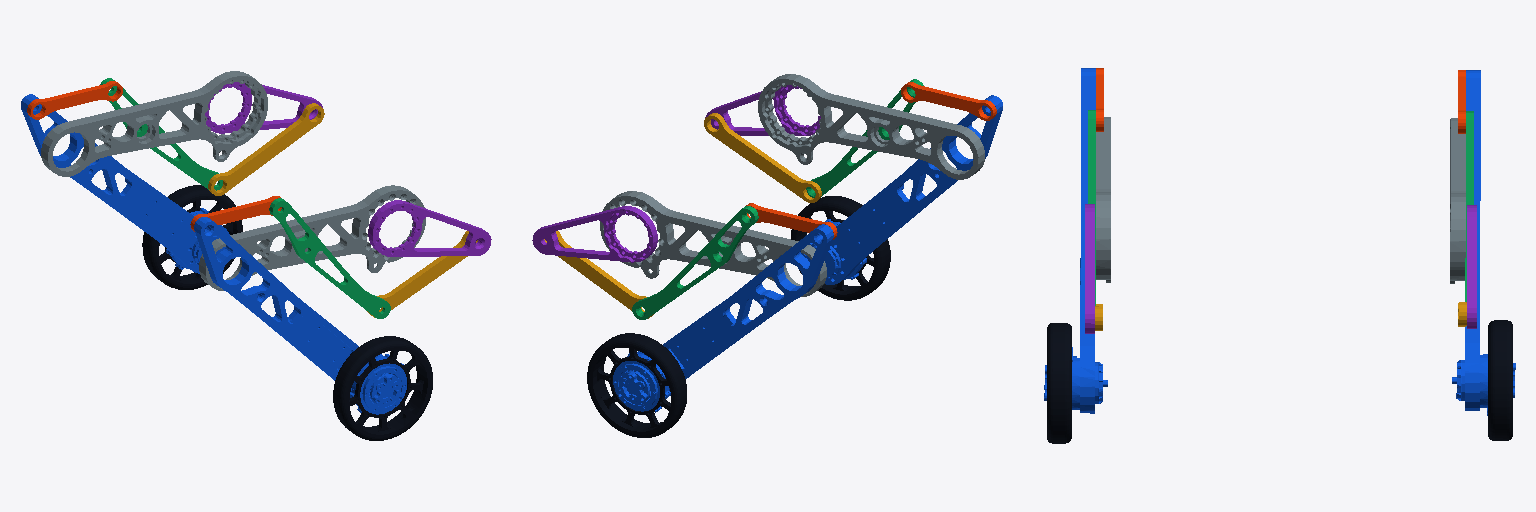
robot.urdf — own_v40_closedchain_research:
<?xml version='1.0' encoding='utf-8'?>
<robot name="own_v40_closedchain_research">
  <link name="base_link">
    <inertial>
      <origin xyz="-0.0050000000000000001 0.00029999999999999997 -0.052999999999999999" rpy="0 0 0" />
      <mass value="10.800000000000001" />
      <inertia ixx="0.17799999999999999" ixy="-0.00026400000000001157" ixz="-0.0041229999999999999" iyy="0.126" iyz="-0.00048999999999999912" izz="0.255" />
    </inertial>
    <visual>
      <origin xyz="0 0 0" rpy="0 0 1.5707963267948963" />
      <geometry>
        <mesh filename="meshes/base.stl" />
      </geometry>
      <material name="base">
        <color rgba="0.59999999999999998 0.65000000000000002 0.73999999999999999 1" />
      </material>
    </visual>
    <collision name="base_link_000">
      <origin xyz="0 0 0" rpy="0 0 1.5707963267948963" />
      <geometry>
        <mesh filename="collisions/base_link_part_000.obj" />
      </geometry>
    </collision>
    <collision name="base_link_001">
      <origin xyz="0 0 0" rpy="0 0 1.5707963267948963" />
      <geometry>
        <mesh filename="collisions/base_link_part_001.obj" />
      </geometry>
    </collision>
    <collision name="base_link_002">
      <origin xyz="0 0 0" rpy="0 0 1.5707963267948963" />
      <geometry>
        <mesh filename="collisions/base_link_part_002.obj" />
      </geometry>
    </collision>
    <collision name="base_link_003">
      <origin xyz="0 0 0" rpy="0 0 1.5707963267948963" />
      <geometry>
        <mesh filename="collisions/base_link_part_003.obj" />
      </geometry>
    </collision>
    <collision name="base_link_004">
      <origin xyz="0 0 0" rpy="0 0 1.5707963267948963" />
      <geometry>
        <mesh filename="collisions/base_link_part_004.obj" />
      </geometry>
    </collision>
    <collision name="base_link_005">
      <origin xyz="0 0 0" rpy="0 0 1.5707963267948963" />
      <geometry>
        <mesh filename="collisions/base_link_part_005.obj" />
      </geometry>
    </collision>
    <collision name="base_link_006">
      <origin xyz="0 0 0" rpy="0 0 1.5707963267948963" />
      <geometry>
        <mesh filename="collisions/base_link_part_006.obj" />
      </geometry>
    </collision>
    <collision name="base_link_007">
      <origin xyz="0 0 0" rpy="0 0 1.5707963267948963" />
      <geometry>
        <mesh filename="collisions/base_link_part_007.obj" />
      </geometry>
    </collision>
    <collision name="base_link_008">
      <origin xyz="0 0 0" rpy="0 0 1.5707963267948963" />
      <geometry>
        <mesh filename="collisions/base_link_part_008.obj" />
      </geometry>
    </collision>
    <collision name="base_link_009">
      <origin xyz="0 0 0" rpy="0 0 1.5707963267948963" />
      <geometry>
        <mesh filename="collisions/base_link_part_009.obj" />
      </geometry>
    </collision>
    <collision name="base_link_010">
      <origin xyz="0 0 0" rpy="0 0 1.5707963267948963" />
      <geometry>
        <mesh filename="collisions/base_link_part_010.obj" />
      </geometry>
    </collision>
    <collision name="base_link_011">
      <origin xyz="0 0 0" rpy="0 0 1.5707963267948963" />
      <geometry>
        <mesh filename="collisions/base_link_part_011.obj" />
      </geometry>
    </collision>
    <collision name="base_link_012">
      <origin xyz="0 0 0" rpy="0 0 1.5707963267948963" />
      <geometry>
        <mesh filename="collisions/base_link_part_012.obj" />
      </geometry>
    </collision>
    <collision name="base_link_013">
      <origin xyz="0 0 0" rpy="0 0 1.5707963267948963" />
      <geometry>
        <mesh filename="collisions/base_link_part_013.obj" />
      </geometry>
    </collision>
  </link>
  <link name="L_crank">
    <inertial>
      <origin xyz="-0.049812433890276814 -0.01514014536115295 0.0058039480295004157" rpy="0 0 0" />
      <mass value="0.045842196247616533" />
      <inertia ixx="2.3235309419594341e-05" ixy="-2.4664450605999792e-05" ixz="9.9313306483562188e-07" iyy="9.6959712559760428e-05" iyz="3.0141870298617644e-07" izz="0.00011944883815837006" />
    </inertial>
    <visual>
      <origin xyz="5.3055290129457803e-19 2.5298050691328436e-18 -0" rpy="0 0 0" />
      <geometry>
        <mesh filename="meshes/L_C0.stl" />
      </geometry>
      <material name="L_C0">
        <color rgba="0.56999999999999995 0.23000000000000001 0.78000000000000003 1" />
      </material>
    </visual>
    <collision name="L_crank_000">
      <origin xyz="5.3055290129457803e-19 2.5298050691328436e-18 -0" rpy="0 0 0" />
      <geometry>
        <mesh filename="collisions/L_C0.obj" />
      </geometry>
    </collision>
  </link>
  <link name="L_lower_coupler">
    <inertial>
      <origin xyz="0.059626241247400354 -0.03179900964804825 -0.00279999984195456" rpy="0 0 0" />
      <mass value="0.032216812540136218" />
      <inertia ixx="1.2043034410276933e-05" ixy="2.2918105222456961e-05" ixz="0" iyy="4.9532052947366062e-05" iyz="4.2189860436067365e-21" izz="6.1231441314568816e-05" />
    </inertial>
    <visual>
      <origin xyz="0.10850217573169961 0.032967223663038149 -0" rpy="0 0 0" />
      <geometry>
        <mesh filename="meshes/L_C1.stl" />
      </geometry>
      <material name="L_C1">
        <color rgba="0.84999999999999998 0.59999999999999998 0.10000000000000001 1" />
      </material>
    </visual>
    <collision name="L_lower_coupler_000">
      <origin xyz="0.10850217573169961 0.032967223663038149 -0" rpy="0 0 0" />
      <geometry>
        <mesh filename="collisions/L_C1.obj" />
      </geometry>
    </collision>
  </link>
  <link name="L_link1">
    <inertial>
      <origin xyz="0.095614654738413504 0.0033043436774199604 -0.0074883296932557629" rpy="0 0 0" />
      <mass value="0.18228056645041626" />
      <inertia ixx="8.7815210338960264e-05" ixy="-2.6108030814183793e-05" ixz="4.3728724662567771e-06" iyy="0.0010615110305591375" iyz="-5.8959476865339382e-07" izz="0.0011427064474113162" />
    </inertial>
    <visual>
      <origin xyz="-0 -0 -0" rpy="0 0 0" />
      <geometry>
        <mesh filename="meshes/L_C2.stl" />
      </geometry>
      <material name="L_C2">
        <color rgba="0.47999999999999998 0.54000000000000004 0.56999999999999995 1" />
      </material>
    </visual>
    <collision name="L_link1_000">
      <origin xyz="-0 -0 -0" rpy="0 0 0" />
      <geometry>
        <mesh filename="collisions/L_C2.obj" />
      </geometry>
    </collision>
  </link>
  <link name="L_rocker">
    <inertial>
      <origin xyz="-0.029722072266995941 -0.02202456062507786 0.0039620787954702738" rpy="0 0 0" />
      <mass value="0.045924810823811626" />
      <inertia ixx="0.00010617663836688565" ixy="-9.4505851158998159e-05" ixz="1.4909068566747263e-08" iyy="8.9909207633789877e-05" iyz="1.8293211483223417e-08" izz="0.00019560154617928013" />
    </inertial>
    <visual>
      <origin xyz="-0.11339999869335352 2.5113228840012801e-10 -0" rpy="0 0 0" />
      <geometry>
        <mesh filename="meshes/L_C3.stl" />
      </geometry>
      <material name="L_C3">
        <color rgba="0.080000000000000002 0.66000000000000003 0.38 1" />
      </material>
    </visual>
    <collision name="L_rocker_000">
      <origin xyz="-0.11339999869335352 2.5113228840012801e-10 -0" rpy="0 0 0" />
      <geometry>
        <mesh filename="collisions/L_C3.obj" />
      </geometry>
    </collision>
  </link>
  <link name="L_upper_coupler">
    <inertial>
      <origin xyz="0.048482934032658326 0.0014755928674203694 -0.004000000000000112" rpy="0 0 0" />
      <mass value="0.019735613938019366" />
      <inertia ixx="6.0623106920416359e-07" ixy="3.0764152012050254e-08" ixz="-2.2501258899235929e-20" iyy="1.9433068124268855e-05" iyz="-2.1094930218033682e-21" izz="1.9828785938138684e-05" />
    </inertial>
    <visual>
      <origin xyz="-0.14983084544858088 -0.056229831457405254 -0" rpy="0 0 0" />
      <geometry>
        <mesh filename="meshes/L_C4.stl" />
      </geometry>
      <material name="L_C4">
        <color rgba="0.94999999999999996 0.29999999999999999 0.059999999999999998 1" />
      </material>
    </visual>
    <collision name="L_upper_coupler_000">
      <origin xyz="-0.14983084544858088 -0.056229831457405254 -0" rpy="0 0 0" />
      <geometry>
        <mesh filename="collisions/L_C4.obj" />
      </geometry>
    </collision>
  </link>
  <link name="L_link2">
    <inertial>
      <origin xyz="0.15962999999999999 8.3412999999999996e-05 0.011927" rpy="0 0 0" />
      <mass value="0.45000000000000001" />
      <inertia ixx="0.00016699999999999999" ixy="8.3999999999999995e-05" ixz="0.00019100000000000001" iyy="0.0048999999999999998" iyz="0" izz="0.00496" />
    </inertial>
    <visual>
      <origin xyz="-0 -0 -0" rpy="0 0 0" />
      <geometry>
        <mesh filename="meshes/L_shank.stl" />
      </geometry>
      <material name="L_shank">
        <color rgba="0.10000000000000001 0.40000000000000002 0.90000000000000002 1" />
      </material>
    </visual>
    <collision name="L_link2_000">
      <origin xyz="0 0 0" rpy="0 0 0" />
      <geometry>
        <mesh filename="collisions/L_link2_part_000.obj" />
      </geometry>
    </collision>
    <collision name="L_link2_001">
      <origin xyz="0 0 0" rpy="0 0 0" />
      <geometry>
        <mesh filename="collisions/L_link2_part_001.obj" />
      </geometry>
    </collision>
    <collision name="L_link2_002">
      <origin xyz="0 0 0" rpy="0 0 0" />
      <geometry>
        <mesh filename="collisions/L_link2_part_002.obj" />
      </geometry>
    </collision>
    <collision name="L_link2_003">
      <origin xyz="0 0 0" rpy="0 0 0" />
      <geometry>
        <mesh filename="collisions/L_link2_part_003.obj" />
      </geometry>
    </collision>
    <collision name="L_link2_004">
      <origin xyz="0 0 0" rpy="0 0 0" />
      <geometry>
        <mesh filename="collisions/L_link2_part_004.obj" />
      </geometry>
    </collision>
  </link>
  <link name="L_link3">
    <inertial>
      <origin xyz="0 0 0.020472000000000001" rpy="0 0 0" />
      <mass value="0.20000000000000001" />
      <inertia ixx="0.00029599999999999998" ixy="0" ixz="0" iyy="0.00029599999999999998" iyz="0" izz="0.00057499999999999999" />
    </inertial>
    <visual>
      <origin xyz="-0 -0 -0" rpy="0 0 0" />
      <geometry>
        <mesh filename="meshes/L_wheel.stl" />
      </geometry>
      <material name="L_wheel">
        <color rgba="0.080000000000000002 0.10000000000000001 0.14000000000000001 1" />
      </material>
    </visual>
    <collision name="L_link3_000">
      <origin xyz="0 0 0.020350000821053982" rpy="0 0 0" />
      <geometry>
        <cylinder radius="0.060000003250648436" length="0.02500000037252903" />
      </geometry>
    </collision>
  </link>
  <link name="R_crank">
    <inertial>
      <origin xyz="-0.048541907627497528 -0.018819838966984456 -0.0065960516544871601" rpy="0 0 0" />
      <mass value="0.045856248017571287" />
      <inertia ixx="2.7330881833245979e-05" ixy="-2.9891531141993325e-05" ixz="9.6813132257116957e-07" iyy="9.2900978959255397e-05" iyz="3.7489853249897649e-07" izz="0.00011948544823253826" />
    </inertial>
    <visual>
      <origin xyz="-2.8912057932946783e-19 -9.2518585385429707e-18 -0" rpy="0 0 0" />
      <geometry>
        <mesh filename="meshes/R_C0.stl" />
      </geometry>
      <material name="R_C0">
        <color rgba="0.56999999999999995 0.23000000000000001 0.78000000000000003 1" />
      </material>
    </visual>
    <collision name="R_crank_000">
      <origin xyz="-2.8912057932946783e-19 -9.2518585385429707e-18 -0" rpy="0 0 0" />
      <geometry>
        <mesh filename="collisions/R_C0.obj" />
      </geometry>
    </collision>
  </link>
  <link name="R_lower_coupler">
    <inertial>
      <origin xyz="0.060496785698578845 -0.030109866840192588 0.0028000002494081859" rpy="0 0 0" />
      <mass value="0.032226686578883446" />
      <inertia ixx="1.0787666919864096e-05" ixy="2.1834857808727884e-05" ixz="-2.1101393980544997e-21" iyy="5.0806294870519462e-05" iyz="0" izz="6.1250210414211918e-05" />
    </inertial>
    <visual>
      <origin xyz="0.10573552755907482 0.040982412765161728 -0" rpy="0 0 0" />
      <geometry>
        <mesh filename="meshes/R_C1.stl" />
      </geometry>
      <material name="R_C1">
        <color rgba="0.84999999999999998 0.59999999999999998 0.10000000000000001 1" />
      </material>
    </visual>
    <collision name="R_lower_coupler_000">
      <origin xyz="0.10573552755907482 0.040982412765161728 -0" rpy="0 0 0" />
      <geometry>
        <mesh filename="collisions/R_C1.obj" />
      </geometry>
    </collision>
  </link>
  <link name="R_link1">
    <inertial>
      <origin xyz="0.095631518214782496 0.0033142219977605634 0.0074867512689581793" rpy="0 0 0" />
      <mass value="0.18223652979939314" />
      <inertia ixx="8.778171113052383e-05" ixy="-2.6004749970765659e-05" ixz="-4.3887030530714904e-06" iyy="0.0010606474003378808" iyz="5.8737697157460479e-07" izz="0.0011418107670220798" />
    </inertial>
    <visual>
      <origin xyz="-0 -0 -0" rpy="0 0 0" />
      <geometry>
        <mesh filename="meshes/R_C2.stl" />
      </geometry>
      <material name="R_C2">
        <color rgba="0.47999999999999998 0.54000000000000004 0.56999999999999995 1" />
      </material>
    </visual>
    <collision name="R_link1_000">
      <origin xyz="-0 -0 -0" rpy="0 0 0" />
      <geometry>
        <mesh filename="collisions/R_C2.obj" />
      </geometry>
    </collision>
  </link>
  <link name="R_rocker">
    <inertial>
      <origin xyz="-0.028662222583147989 -0.023387158265512589 -0.0040379213799522015" rpy="0 0 0" />
      <mass value="0.045938883983757756" />
      <inertia ixx="0.00011498458086895475" ixy="-9.3365014926712506e-05" ixz="1.4043714379754925e-08" iyy="8.1161355406421745e-05" iyz="1.8974611215545835e-08" izz="0.00019566148799844964" />
    </inertial>
    <visual>
      <origin xyz="-0.11339999981993368 -1.9705206629380733e-11 -0" rpy="0 0 0" />
      <geometry>
        <mesh filename="meshes/R_C3.stl" />
      </geometry>
      <material name="R_C3">
        <color rgba="0.080000000000000002 0.66000000000000003 0.38 1" />
      </material>
    </visual>
    <collision name="R_rocker_000">
      <origin xyz="-0.11339999981993368 -1.9705206629380733e-11 -0" rpy="0 0 0" />
      <geometry>
        <mesh filename="collisions/R_C3.obj" />
      </geometry>
    </collision>
  </link>
  <link name="R_upper_coupler">
    <inertial>
      <origin xyz="0.048482922820609869 0.0014755923029764195 0.0040000001899895676" rpy="0 0 0" />
      <mass value="0.019741651620394367" />
      <inertia ixx="6.0641639478551622e-07" ixy="3.0773630156283471e-08" ixz="-2.8135191974059997e-21" iyy="1.9439005101324119e-05" iyz="-4.2202787961089995e-21" izz="1.9834843858821619e-05" />
    </inertial>
    <visual>
      <origin xyz="-0.14716796325964701 -0.057868171682193513 -0" rpy="0 0 0" />
      <geometry>
        <mesh filename="meshes/R_C4.stl" />
      </geometry>
      <material name="R_C4">
        <color rgba="0.94999999999999996 0.29999999999999999 0.059999999999999998 1" />
      </material>
    </visual>
    <collision name="R_upper_coupler_000">
      <origin xyz="-0.14716796325964701 -0.057868171682193513 -0" rpy="0 0 0" />
      <geometry>
        <mesh filename="collisions/R_C4.obj" />
      </geometry>
    </collision>
  </link>
  <link name="R_link2">
    <inertial>
      <origin xyz="0.15962999999999999 8.3411999999999994e-05 -0.011927" rpy="0 0 0" />
      <mass value="0.45000000000000001" />
      <inertia ixx="0.00016699999999999999" ixy="8.3999999999999995e-05" ixz="-0.000192" iyy="0.0048999999999999998" iyz="0" izz="0.00496" />
    </inertial>
    <visual>
      <origin xyz="-0 -0 -0" rpy="0 0 0" />
      <geometry>
        <mesh filename="meshes/R_shank.stl" />
      </geometry>
      <material name="R_shank">
        <color rgba="0.10000000000000001 0.40000000000000002 0.90000000000000002 1" />
      </material>
    </visual>
    <collision name="R_link2_000">
      <origin xyz="0 0 0" rpy="0 0 0" />
      <geometry>
        <mesh filename="collisions/R_link2_part_000.obj" />
      </geometry>
    </collision>
    <collision name="R_link2_001">
      <origin xyz="0 0 0" rpy="0 0 0" />
      <geometry>
        <mesh filename="collisions/R_link2_part_001.obj" />
      </geometry>
    </collision>
    <collision name="R_link2_002">
      <origin xyz="0 0 0" rpy="0 0 0" />
      <geometry>
        <mesh filename="collisions/R_link2_part_002.obj" />
      </geometry>
    </collision>
    <collision name="R_link2_003">
      <origin xyz="0 0 0" rpy="0 0 0" />
      <geometry>
        <mesh filename="collisions/R_link2_part_003.obj" />
      </geometry>
    </collision>
    <collision name="R_link2_004">
      <origin xyz="0 0 0" rpy="0 0 0" />
      <geometry>
        <mesh filename="collisions/R_link2_part_004.obj" />
      </geometry>
    </collision>
  </link>
  <link name="R_link3">
    <inertial>
      <origin xyz="0 0 -0.020472000000000001" rpy="0 0 0" />
      <mass value="0.20000000000000001" />
      <inertia ixx="0.00029599999999999998" ixy="0" ixz="0" iyy="0.00029599999999999998" iyz="0" izz="0.00057499999999999999" />
    </inertial>
    <visual>
      <origin xyz="-0 -0 -0" rpy="0 0 0" />
      <geometry>
        <mesh filename="meshes/R_wheel.stl" />
      </geometry>
      <material name="R_wheel">
        <color rgba="0.080000000000000002 0.10000000000000001 0.14000000000000001 1" />
      </material>
    </visual>
    <collision name="R_link3_000">
      <origin xyz="0 0 -0.020350000821053982" rpy="0 0 0" />
      <geometry>
        <cylinder radius="0.060000003154563872" length="0.02500000037252903" />
      </geometry>
    </collision>
  </link>
  <joint name="L_joint1" type="continuous">
    <origin xyz="0 0.18379809434584801 -0.00083696764274401197" rpy="1.5753500293810501 0 3.1415926535897967" />
    <parent link="base_link" />
    <child link="L_link1" />
    <axis xyz="0 0 -1" />
    <limit effort="100" velocity="1" />
  </joint>
  <joint name="L_joint2" type="revolute">
    <origin xyz="0.21 0 0" rpy="0 0 -2.404" />
    <parent link="L_link1" />
    <child link="L_link2" />
    <axis xyz="0 0 1" />
    <limit lower="-0.1267274153917777" upper="0.6586707480056704" effort="100" velocity="1" />
  </joint>
  <joint name="L_joint3" type="continuous">
    <origin xyz="0.25 0 0.015" rpy="0 0 -1.5708" />
    <parent link="L_link2" />
    <child link="L_link3" />
    <axis xyz="0 0 1" />
    <limit effort="100" velocity="1" />
  </joint>
  <joint name="L_crank_O" type="continuous">
    <parent link="L_link1" />
    <child link="L_crank" />
    <origin xyz="-5.30552901294558e-19 -2.5626427031053585e-18 0" rpy="4.1335207826009857e-19 0 -5.5983921724776644e-06" />
    <axis xyz="0 0 1" />
    <limit effort="100" velocity="100" />
  </joint>
  <joint name="L_lower_A" type="continuous">
    <parent link="L_crank" />
    <child link="L_lower_coupler" />
    <origin xyz="-0.10850217615093172 -0.032967221974287766 -2.7755575615628914e-17" rpy="-7.1193119216723943e-19 0 3.4116329148075771e-06" />
    <axis xyz="0 0 1" />
    <limit effort="100" velocity="100" />
  </joint>
  <joint name="L_rocker_P" type="continuous">
    <parent link="L_link1" />
    <child link="L_rocker" />
    <origin xyz="0.11339999869335352 -2.5113228829675199e-10 2.7755575615628914e-17" rpy="2.3674570875757694e-19 0 -3.4128406221149643e-06" />
    <axis xyz="0 0 1" />
    <limit effort="100" velocity="100" />
  </joint>
  <joint name="L_upper_B" type="continuous">
    <parent link="L_rocker" />
    <child link="L_upper_coupler" />
    <origin xyz="0.036430839644988486 0.056229830590320336 0" rpy="-2.3928680759933985e-19 0 3.4658557521288631e-06" />
    <axis xyz="0 0 1" />
    <limit effort="100" velocity="100" />
  </joint>
  <joint name="R_joint1" type="continuous">
    <origin xyz="0 -0.18279810471393301 0.00083241395589111295" rpy="1.5753500293810501 0 3.1415926535897967" />
    <parent link="base_link" />
    <child link="R_link1" />
    <axis xyz="0 0 1" />
    <limit effort="100" velocity="1" />
  </joint>
  <joint name="R_jonit2" type="revolute">
    <origin xyz="0.21 0 0" rpy="0 0 -2.3573" />
    <parent link="R_link1" />
    <child link="R_link2" />
    <axis xyz="0 0 -1" />
    <limit lower="-0.6119707480056704" upper="0.1734274153917776" effort="100" velocity="1" />
  </joint>
  <joint name="R_joint3" type="continuous">
    <origin xyz="0.249999999999996 0 -0.0150000000000006" rpy="0 0 3.14159265358979" />
    <parent link="R_link2" />
    <child link="R_link3" />
    <axis xyz="0 0 -1" />
    <limit effort="100" velocity="1" />
  </joint>
  <joint name="R_crank_O" type="continuous">
    <parent link="R_link1" />
    <child link="R_crank" />
    <origin xyz="2.8912057932940211e-19 9.4988226435684166e-18 2.7755575615628914e-17" rpy="4.2012834183813297e-19 0 4.3923824499241301e-05" />
    <axis xyz="0 0 1" />
    <limit effort="100" velocity="100" />
  </joint>
  <joint name="R_lower_A" type="continuous">
    <parent link="R_crank" />
    <child link="R_lower_coupler" />
    <origin xyz="-0.10573552776207414 -0.040982413716477602 2.7755575615628914e-17" rpy="2.9137933385547932e-19 0 -2.7958025317787e-05" />
    <axis xyz="0 0 1" />
    <limit effort="100" velocity="100" />
  </joint>
  <joint name="R_rocker_P" type="continuous">
    <parent link="R_link1" />
    <child link="R_rocker" />
    <origin xyz="0.11339999981993368 1.9705206894229518e-11 2.7755575615628914e-17" rpy="3.0493186101154812e-20 0 2.7983688525125931e-05" />
    <axis xyz="0 0 1" />
    <limit effort="100" velocity="100" />
  </joint>
  <joint name="R_upper_B" type="continuous">
    <parent link="R_rocker" />
    <child link="R_upper_coupler" />
    <origin xyz="0.03376795328371246 0.057868172522990036 0" rpy="5.8614679949997583e-19 0 -2.7986041794629372e-05" />
    <axis xyz="0 0 1" />
    <limit effort="100" velocity="100" />
  </joint>
</robot>

--- Render facts (derived) ---
3 views of the same robot in one strip: view 1: azimuth 30°, elevation 25°; view 2: azimuth 150°, elevation 25°; view 3: azimuth 270°, elevation 25° (orthographic).
Robot: own_v40_closedchain_research — 15 links, 14 joints (2 revolute, 12 continuous); root link base_link; default pose: every joint at zero.
Links seen in each view (by area): view 1: R_link2, L_link1, L_link2, R_link1, R_link3, R_crank, L_link3, R_rocker, L_lower_coupler, L_crank, R_lower_coupler, L_upper_coupler (+2 smaller); view 2: L_link2, R_link1, R_link2, L_link1, L_link3, L_crank, R_link3, L_rocker, R_lower_coupler, R_crank, R_upper_coupler, L_lower_coupler (+2 smaller); view 3: R_link2, L_link2, R_link3, L_link3, L_link1, R_link1, R_crank, L_crank, L_rocker, R_rocker.
Boxes of the visible links, bbox=[...] form: R_link2: bbox=[194, 217, 406, 414]; L_link1: bbox=[41, 71, 267, 176]; L_link2: bbox=[21, 94, 229, 273]; R_link1: bbox=[199, 185, 425, 290]; R_link3: bbox=[333, 336, 432, 440]; R_crank: bbox=[368, 200, 491, 256]; L_link3: bbox=[142, 185, 242, 289]; R_rocker: bbox=[269, 198, 390, 318]; L_lower_coupler: bbox=[208, 103, 324, 195]; L_crank: bbox=[205, 82, 322, 133]; R_lower_coupler: bbox=[367, 231, 477, 317]; L_upper_coupler: bbox=[27, 81, 122, 119]; L_link2: bbox=[613, 224, 833, 412]; R_link1: bbox=[758, 74, 984, 179]; R_link2: bbox=[801, 95, 1002, 284]; L_link1: bbox=[600, 191, 826, 296]; L_link3: bbox=[587, 333, 686, 437]; L_crank: bbox=[532, 206, 657, 262]; R_link3: bbox=[791, 196, 890, 300]; L_rocker: bbox=[632, 206, 758, 319]; R_lower_coupler: bbox=[704, 113, 821, 202]; R_crank: bbox=[705, 85, 820, 135]; R_upper_coupler: bbox=[901, 82, 996, 120]; L_lower_coupler: bbox=[544, 231, 653, 318]; R_link2: bbox=[1044, 68, 1107, 413]; L_link2: bbox=[1452, 70, 1515, 415]; R_link3: bbox=[1047, 323, 1071, 443]; L_link3: bbox=[1488, 320, 1512, 440]; L_link1: bbox=[1450, 118, 1465, 283]; R_link1: bbox=[1096, 117, 1110, 282]; R_crank: bbox=[1085, 204, 1094, 333]; L_crank: bbox=[1467, 205, 1476, 328]; L_rocker: bbox=[1465, 111, 1473, 301]; R_rocker: bbox=[1088, 110, 1095, 305].
Size in the robot's own frame: 0.3808 by 0.4674 by 0.3053 metres.
14 mesh visuals loaded from 15 distinct referenced files (14 binary STL); not drawn: 1 (reference not matched to a file when rendering).
